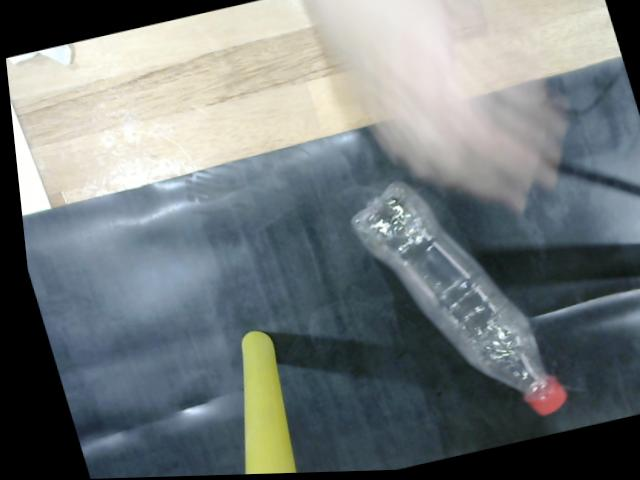bottle: (334, 174, 575, 430)
